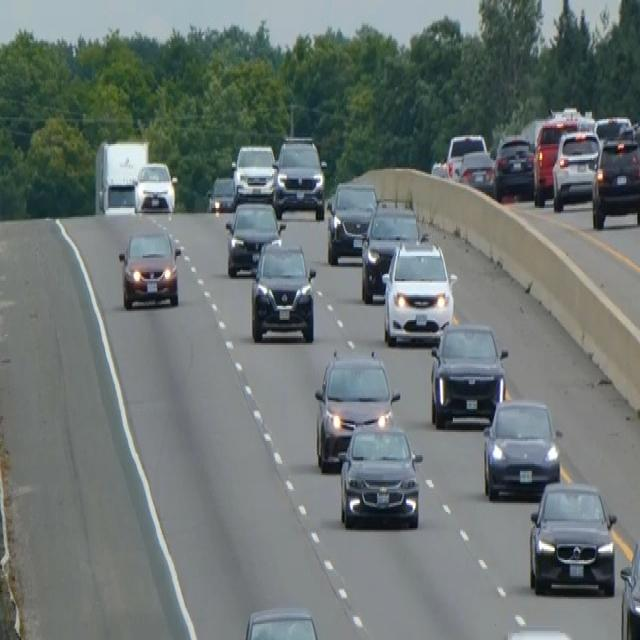car: (313, 345, 400, 469), (528, 478, 617, 596), (338, 414, 423, 530), (429, 320, 508, 428), (481, 396, 561, 499), (381, 236, 456, 345), (249, 237, 316, 343), (360, 203, 420, 302), (117, 226, 181, 309), (224, 199, 285, 277), (273, 133, 326, 219), (591, 135, 639, 229), (325, 178, 377, 263), (551, 126, 601, 212), (532, 116, 579, 204), (444, 130, 493, 190), (493, 132, 535, 199), (238, 606, 324, 638), (232, 143, 276, 205), (133, 158, 177, 214), (619, 534, 639, 638), (458, 150, 495, 196), (593, 114, 633, 146), (207, 174, 235, 213), (497, 626, 584, 638)
lorry: (93, 137, 149, 213)
